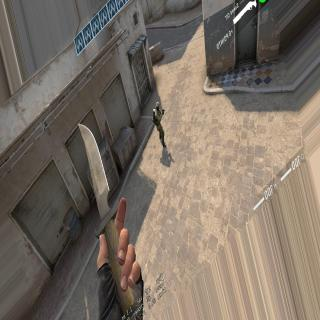CT-Body: (152, 100, 165, 140)
CT-Head: (155, 102, 160, 110)
